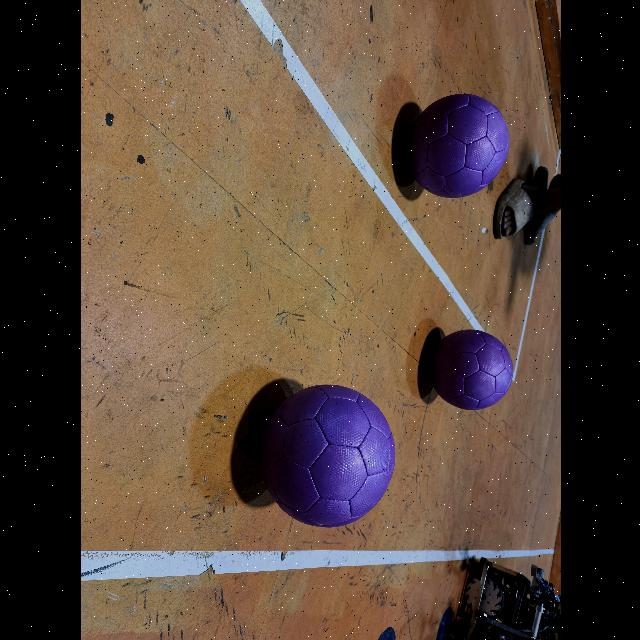P: (260, 384, 394, 528), (406, 94, 508, 198), (429, 330, 513, 410)
